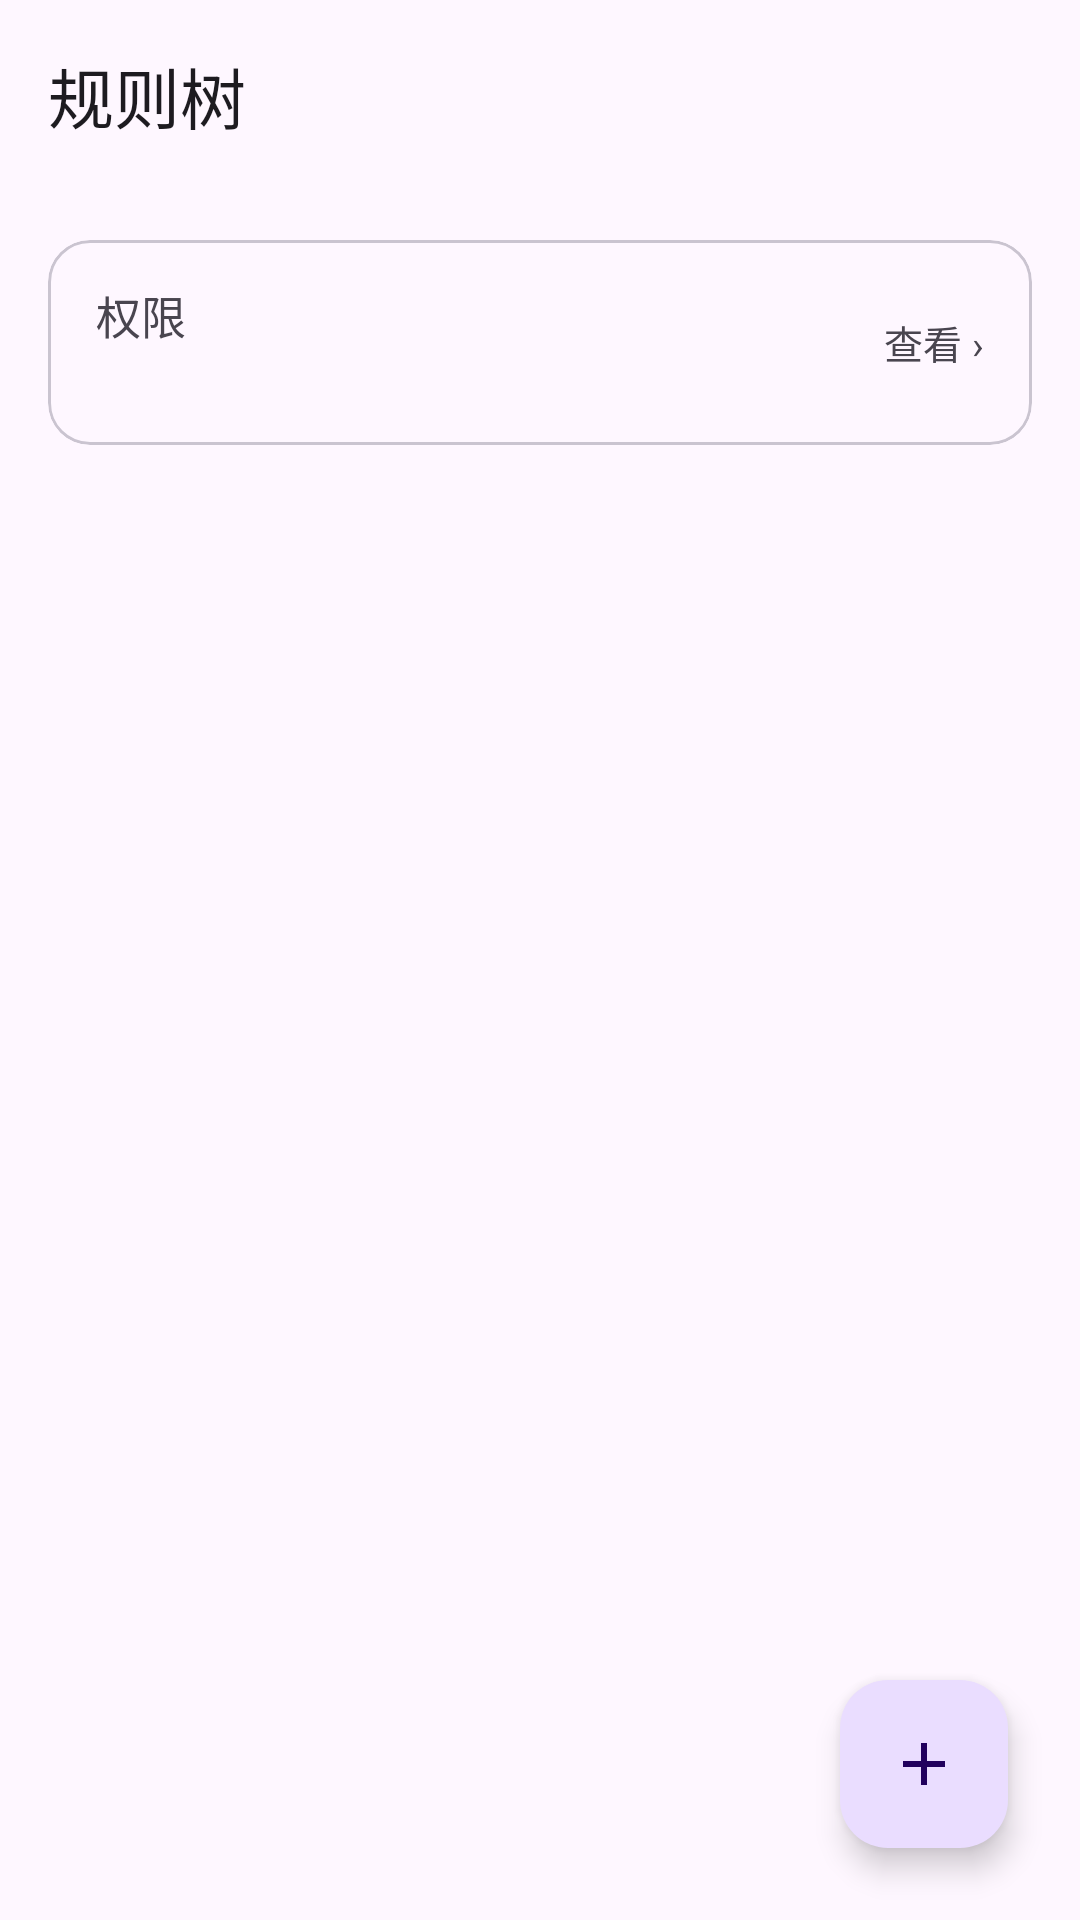

Icon click points for this 1080w x 1920h phone screenshot, format (x,y):
新建规则: (924,1764)
